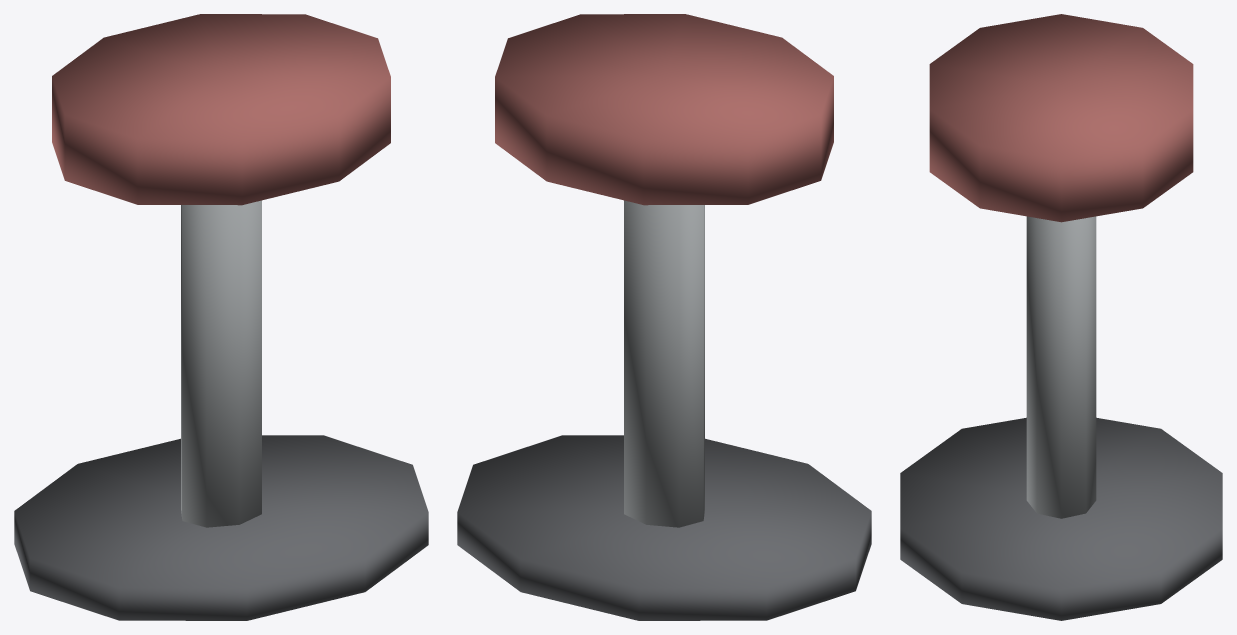
The model's file is diner_counter_stool__wide.glb.
The picture shows the model from 3 angles, left to right: view 1: azimuth 30°, elevation 25°; view 2: azimuth 150°, elevation 25°; view 3: azimuth 270°, elevation 25°; orthographic projection. The views are drawn at different scales.
Parts seen in each view (by area): view 1: world; view 2: world; view 3: world.
Boxes of the visible parts, x1,y1,x2,y2 form: world: (14, 14, 428, 620); world: (457, 14, 871, 620); world: (900, 14, 1222, 620).
Size of the model in its own units: 0.5456 by 0.665 by 0.4185.
